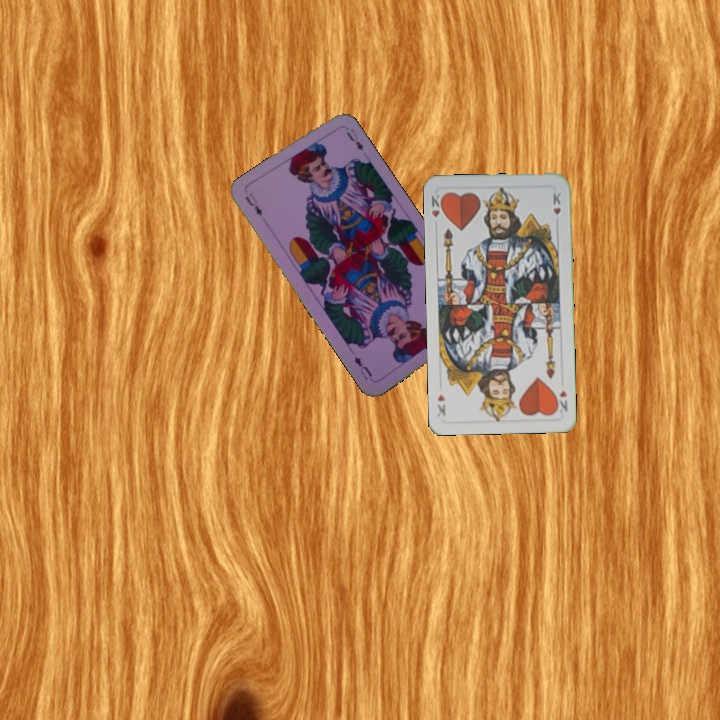EU: (241, 189, 265, 219)
HK: (427, 190, 446, 230), (552, 386, 570, 415)
